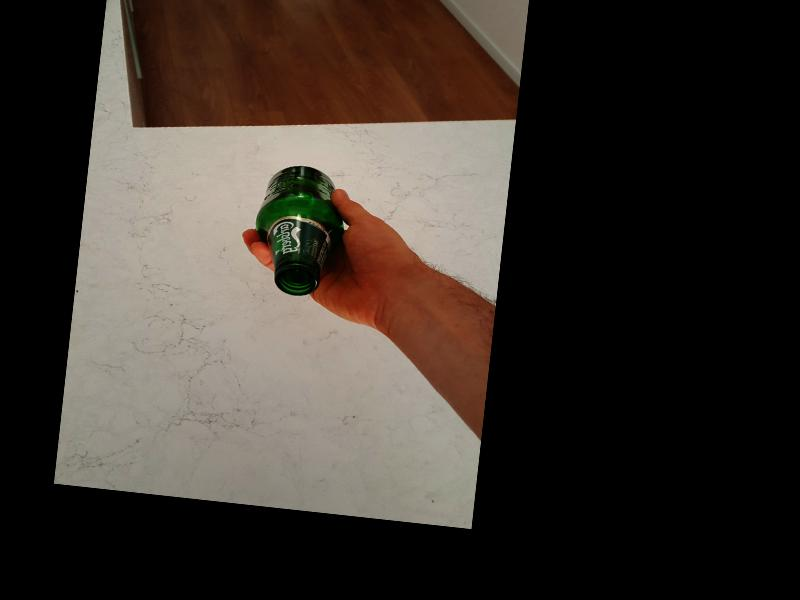Beer: (249, 160, 348, 299)
